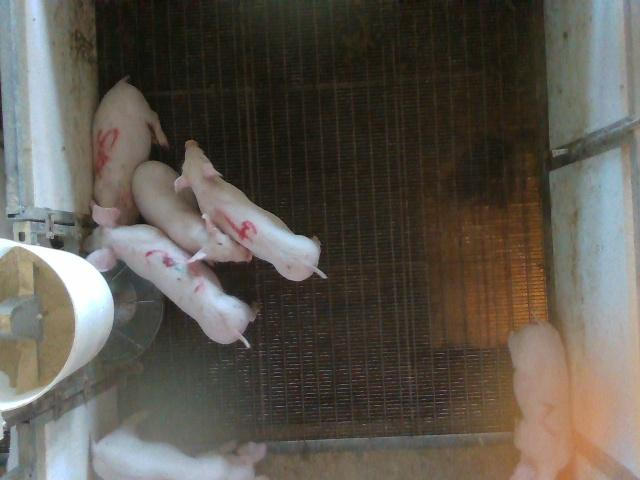pig-1: (91, 421, 266, 479)
pig-2: (509, 322, 572, 478)
pig-3: (85, 207, 256, 347)
pig-4: (176, 141, 326, 281)
pig-5: (94, 76, 168, 224)
